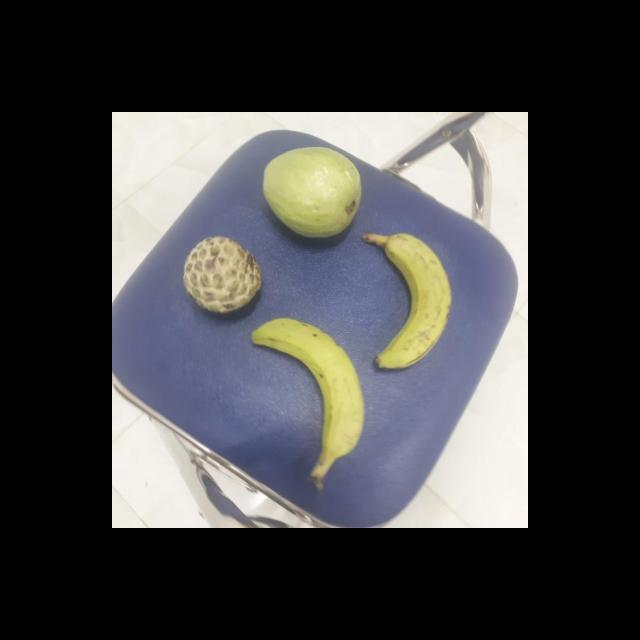Sakya fruit: (178, 235, 261, 315)
banana: (247, 318, 364, 469), (361, 230, 454, 369)
guava: (259, 145, 362, 241)
